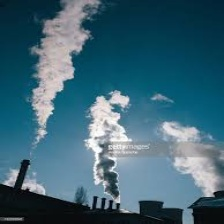smoke: (27, 5, 75, 150), (159, 117, 224, 195), (89, 94, 118, 199)
